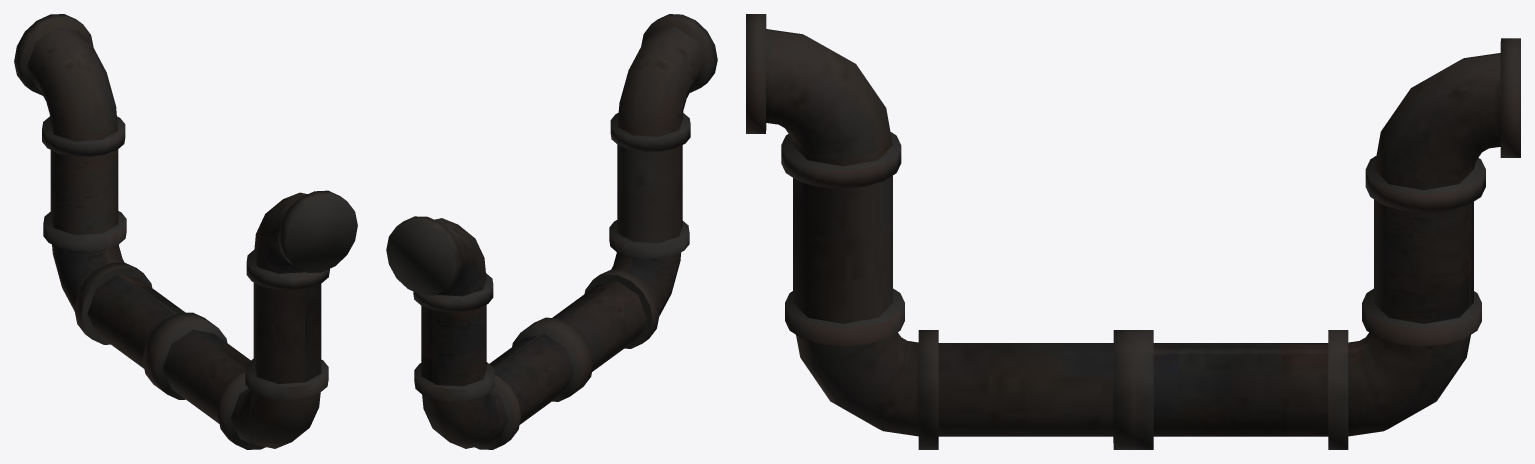
Rendered from pipe_cluster.glb.
3 views of the same model, side by side, from view 1: azimuth 30°, elevation 25°; view 2: azimuth 150°, elevation 25°; view 3: azimuth 270°, elevation 25° (orthographic). The views are drawn at different scales.
Parts seen in each view (by area): view 1: pipe_cluster; view 2: pipe_cluster; view 3: pipe_cluster.
Boxes of the visible parts, x1=… form: pipe_cluster: x1=14, y1=14, x2=357, y2=449; pipe_cluster: x1=386, y1=14, x2=717, y2=449; pipe_cluster: x1=746, y1=14, x2=1520, y2=449.
Size of the model in its own units: 0.4041 by 1.57 by 2.6.
1 material, 1 textured.
